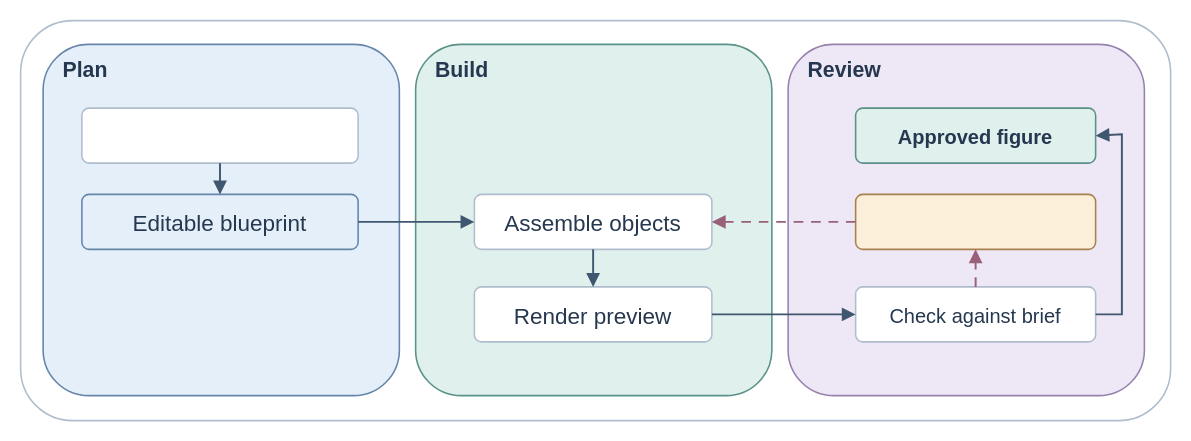
Some shapes in this 1191 by 441 pixel diagram are drawn without their labels. Here are the shapes that lost their labels. From the top down, the centre of each, then its label:
point 219,135: Request + context
point 975,221: Targeted revisions
